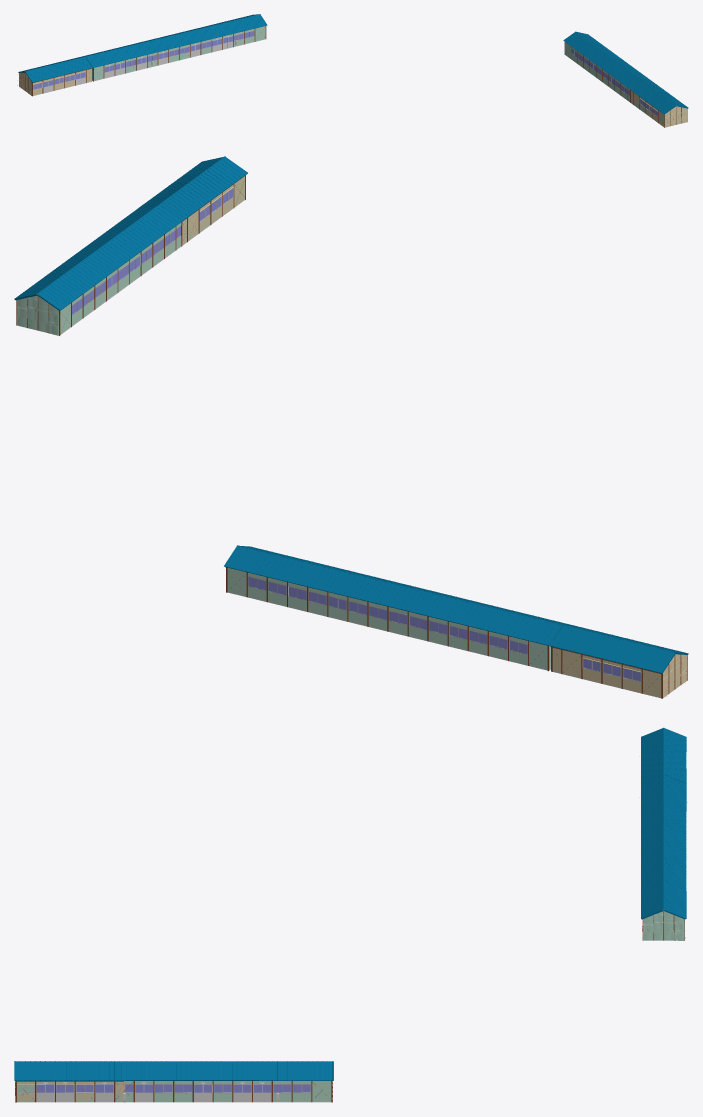
Rendered from busitutou.fbx.
3 renders of one model, top to bottom at view 1: azimuth 30°, elevation 25°; view 2: azimuth 150°, elevation 25°; view 3: azimuth 270°, elevation 25°, orthographic. The views are drawn at different scales.
Visible parts, largest first — view 1: 部室棟その他|屋根本体|Dupli|9, 屋根本体, 部室棟その他|room|Dupli|1, 機械技術部室棟|屋根本体.001|Dupli|65, room, 部室棟その他|棒上部|Dupli|15, 機械技術部室棟|壁.001|Dupli|48, 棒.024|棒上部|Dupli|1, 壁.001; view 2: 部室棟その他|屋根本体|Dupli|9, 屋根本体, 部室棟その他|room|Dupli|1, 機械技術部室棟|屋根本体.001|Dupli|65, room, 機械技術部室棟|壁.001|Dupli|48, 棒.024|棒上部|Dupli|1, 部室棟その他|棒上部|Dupli|1.10, 壁.001, 棒上部; view 3: 部室棟その他|屋根本体|Dupli|9, 屋根本体, room, 機械技術部室棟|屋根本体.001|Dupli|65, 棒上部, 部室棟その他|棒上部|Dupli|15, 部室棟その他|棒上部|Dupli|1.10, 屋根本体.001, 機械技術部室棟|棒上部.001|Dupli|70, 壁.001.
Part boxes in pixels (x1,y1,x2,y2): 部室棟その他|屋根本体|Dupli|9: (79,14,267,67); 屋根本体: (563,32,688,114); 部室棟その他|room|Dupli|1: (94,26,265,80); 機械技術部室棟|屋根本体.001|Dupli|65: (18,57,92,82); room: (565,42,663,124); 部室棟その他|棒上部|Dupli|15: (87,15,266,67); 機械技術部室棟|壁.001|Dupli|48: (33,69,91,95); 棒.024|棒上部|Dupli|1: (565,32,671,113); 壁.001: (630,92,663,126); 部室棟その他|屋根本体|Dupli|9: (224,546,574,645); 屋根本体: (14,157,247,310); 部室棟その他|room|Dupli|1: (227,567,547,670); 機械技術部室棟|屋根本体.001|Dupli|65: (550,625,688,673); room: (60,177,244,334); 機械技術部室棟|壁.001|Dupli|48: (552,647,661,696); 棒.024|棒上部|Dupli|1: (39,157,247,309); 部室棟その他|棒上部|Dupli|1.10: (225,546,560,644); 壁.001: (182,176,244,245); 棒上部: (15,159,219,298); 部室棟その他|屋根本体|Dupli|9: (641,775,686,919); 屋根本体: (14,1062,333,1080); room: (17,1081,331,1102); 機械技術部室棟|屋根本体.001|Dupli|65: (641,728,686,783); 棒上部: (15,1062,332,1080); 部室棟その他|棒上部|Dupli|15: (641,775,662,917); 部室棟その他|棒上部|Dupli|1.10: (664,775,686,918); 屋根本体.001: (15,1062,125,1080); 機械技術部室棟|棒上部.001|Dupli|70: (641,728,686,782); 壁.001: (17,1081,123,1101).
Size of the model in its own units: 10114 by 573 by 8066.
